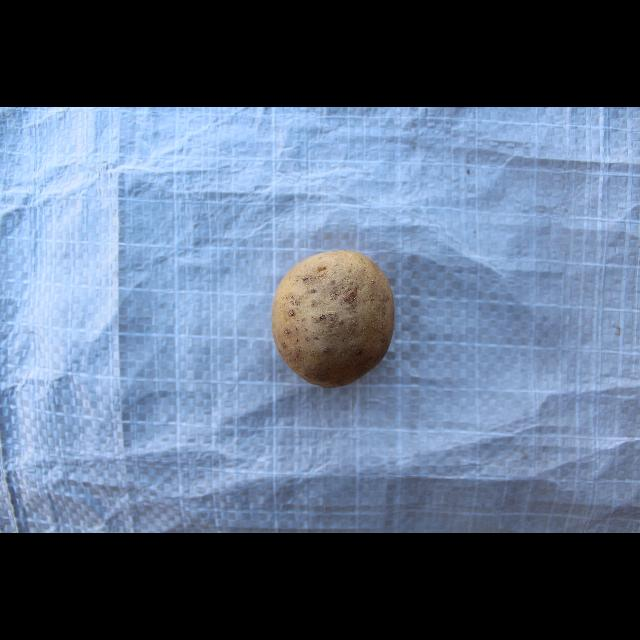Diseased-fungal potato: (267, 246, 397, 390)
